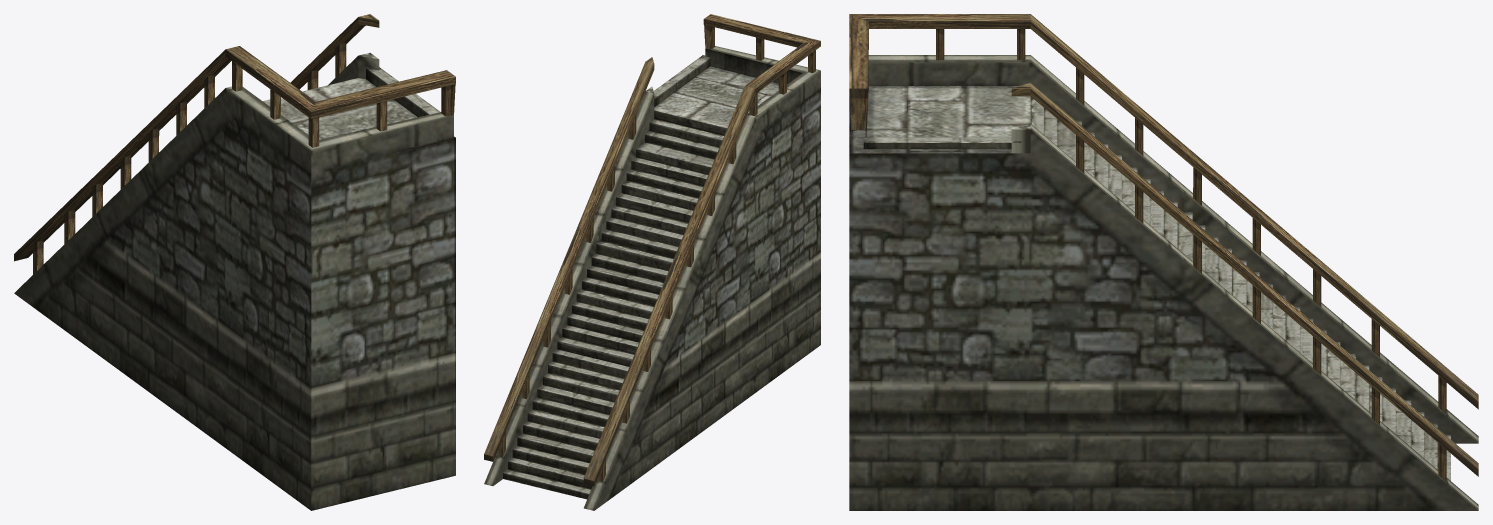
Rendered from general_obj_watchtower03-01.fbx.
The picture shows the model from 3 angles, left to right: view 1: azimuth 30°, elevation 25°; view 2: azimuth 150°, elevation 25°; view 3: azimuth 270°, elevation 25°; orthographic projection. The views are drawn at different scales.
Visible parts, largest first — view 1: Sphere01; view 2: Sphere01; view 3: Sphere01.
Part boxes in pixels (x1,y1,x2,y2): Sphere01: (14,14,455,510); Sphere01: (484,14,820,510); Sphere01: (849,14,1478,510).
Size of the model in its own units: 2.91 by 7.49 by 10.12.
